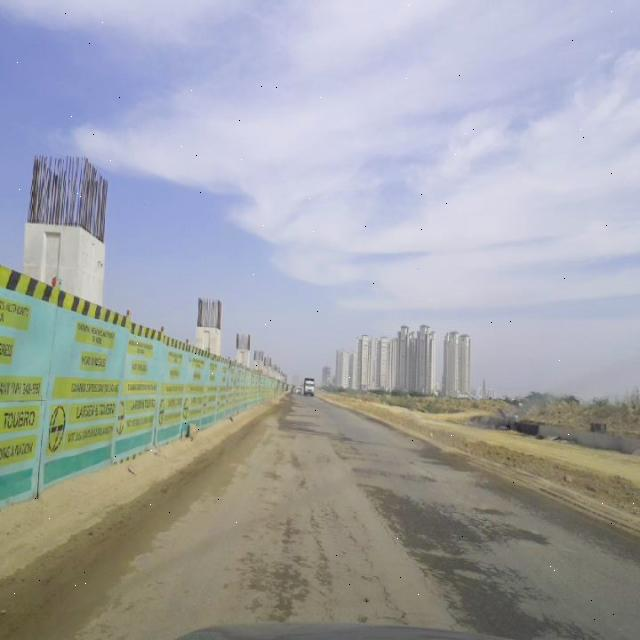D00: (326, 492, 404, 622), (269, 508, 304, 626), (308, 498, 342, 618)
D20: (354, 482, 591, 639)
